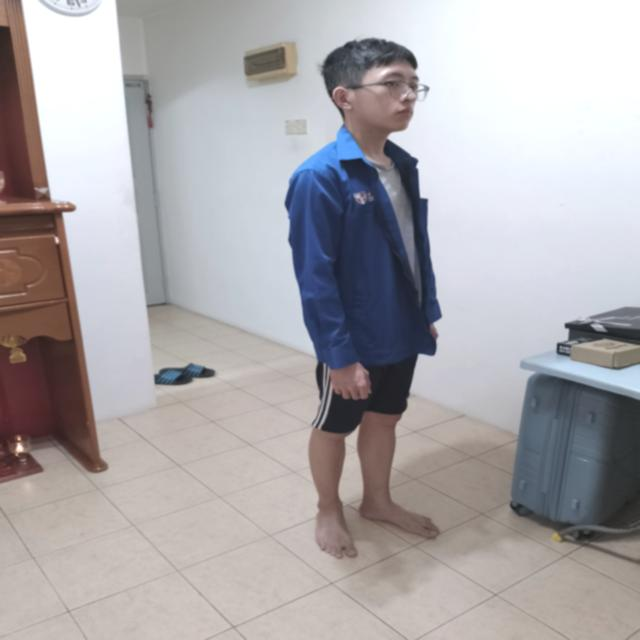person_with_labcoat: (285, 38, 441, 558)
